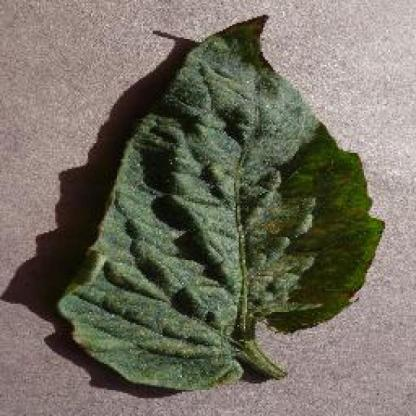Tomato_Spider_Mites: (61, 15, 384, 390)
